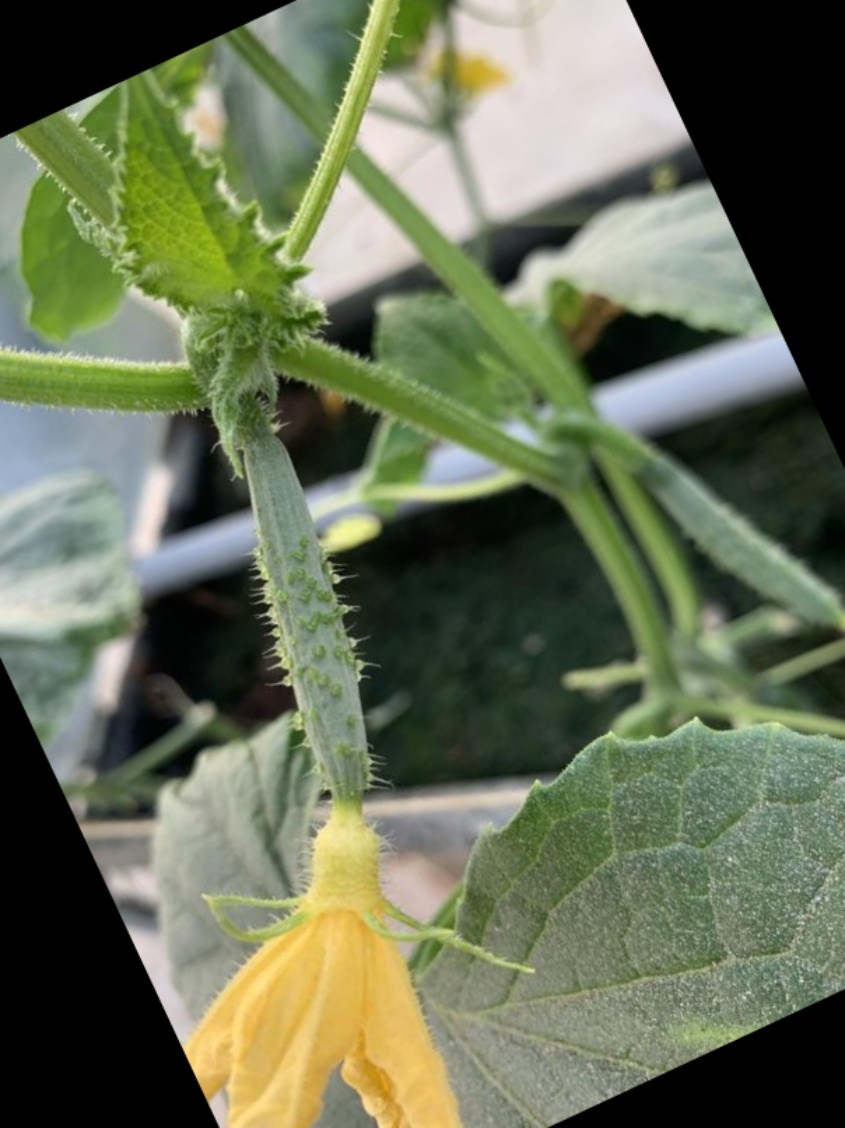bear: (219, 410, 486, 1113)
flowering: (221, 421, 448, 1092)
